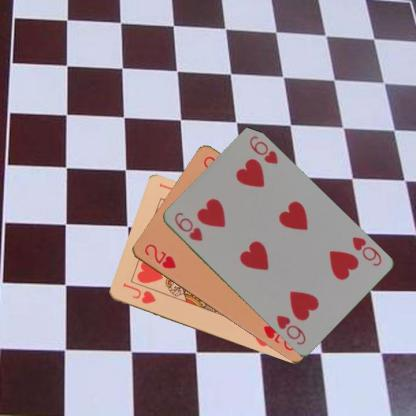2h: (141, 241, 177, 271)
6h: (349, 234, 382, 268), (172, 210, 204, 242)
Jh: (119, 280, 156, 306)
